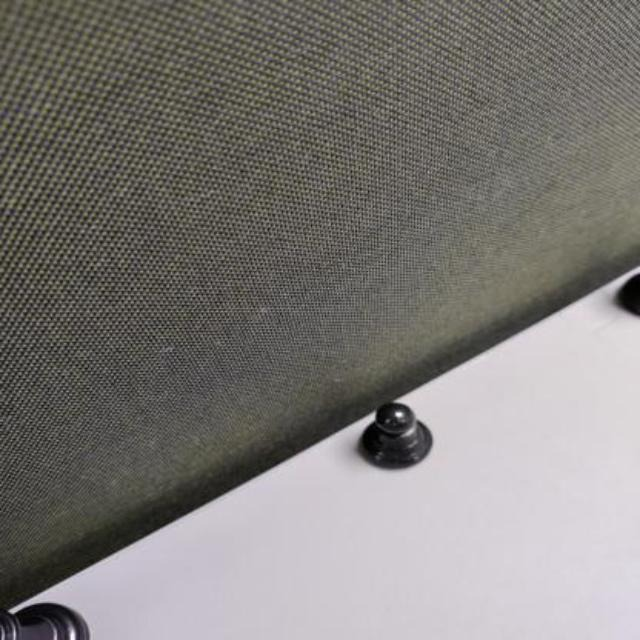black-pawn: (358, 401, 433, 468)
